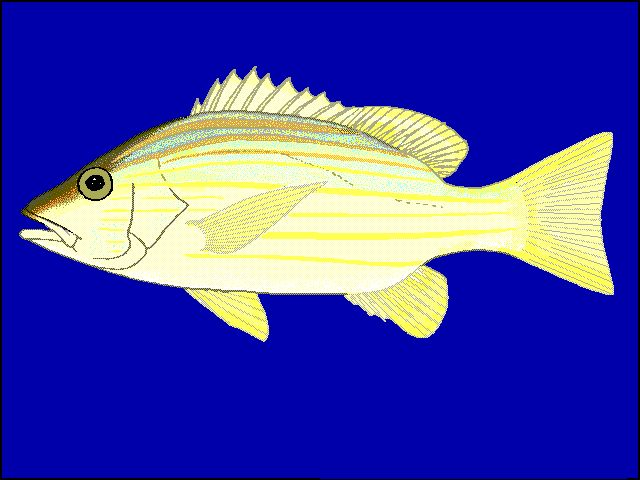fish: (17, 64, 615, 343)
